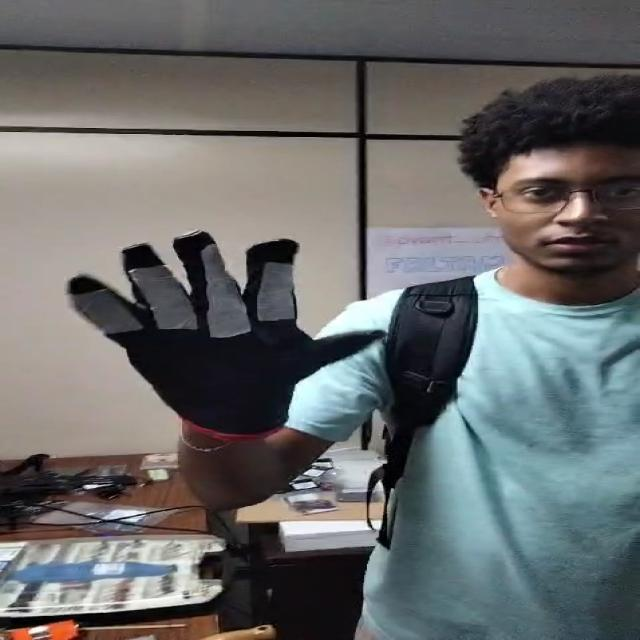Gloves: (53, 226, 385, 442)
